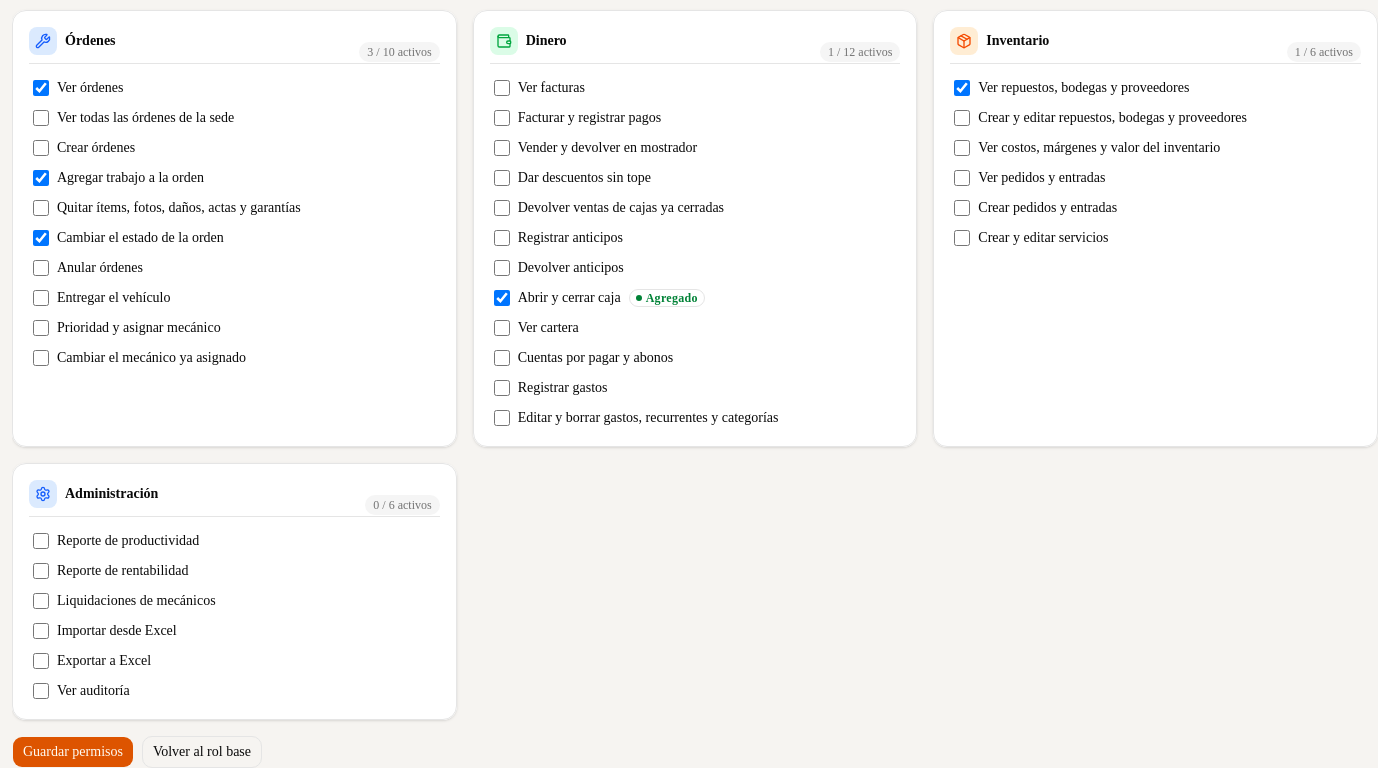
Test: PermisosUsuario › si Volver al rol base sale bien, desmarca las excepciones y cierra la confirmación (I5)
(page scrolled)
Click the button "Volver al rol base" at {"x": 202, "y": 752}, box 142,736 -> 262,767
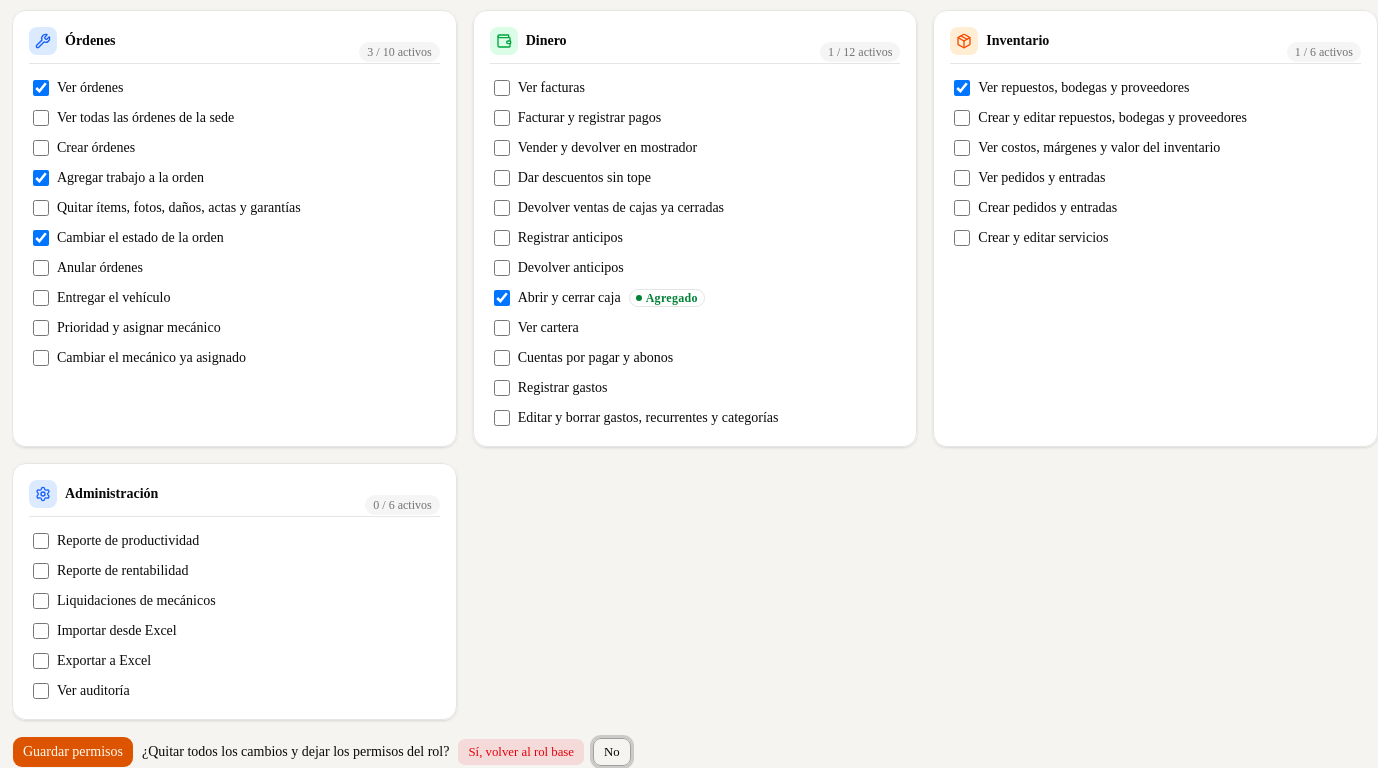
Click the button "Sí, volver al rol base" at {"x": 521, "y": 752}, box 458,738 -> 585,766
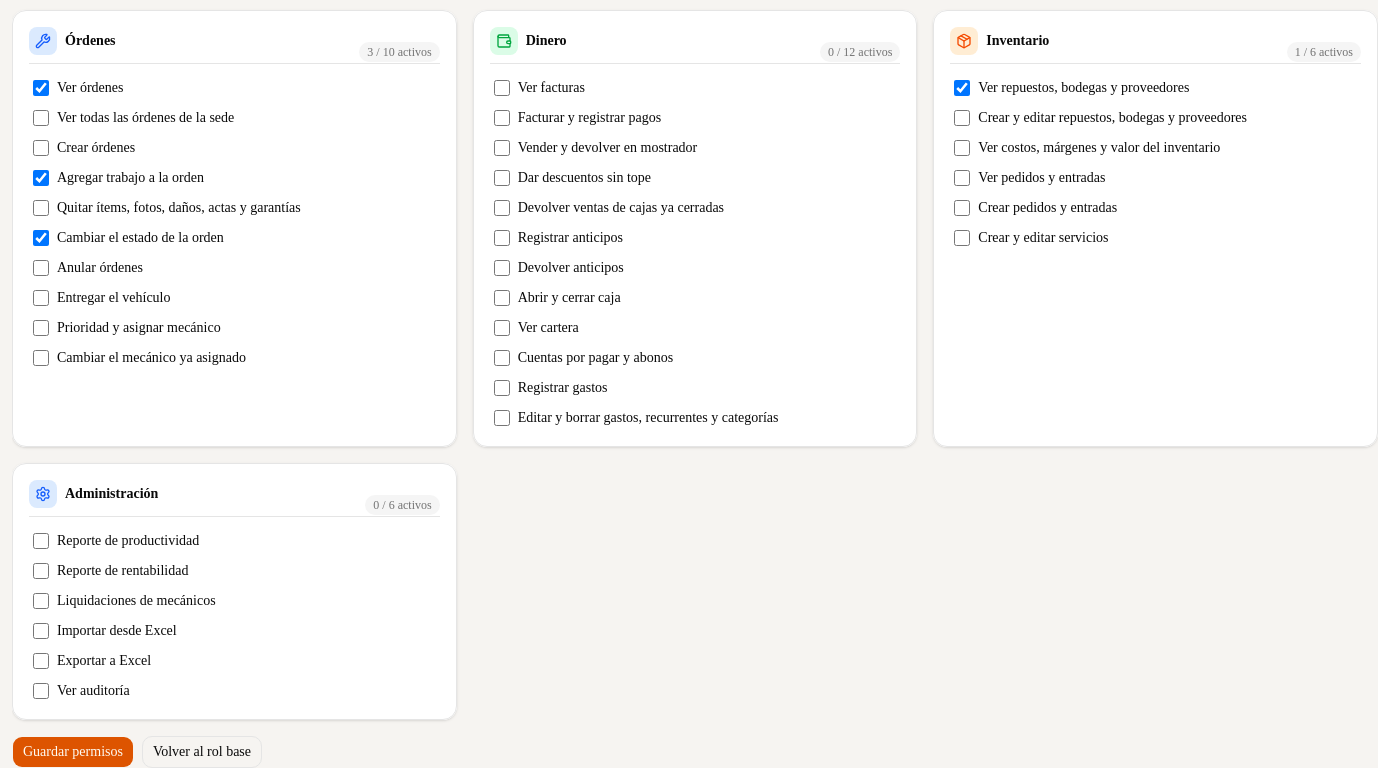
Check: the text "dejar los permisos del rol" is gone
Check: the checkbox labelled "Abrir y cerrar caja" is not checked, box 494,290 -> 510,306
Check: the text "Agregado" is gone
